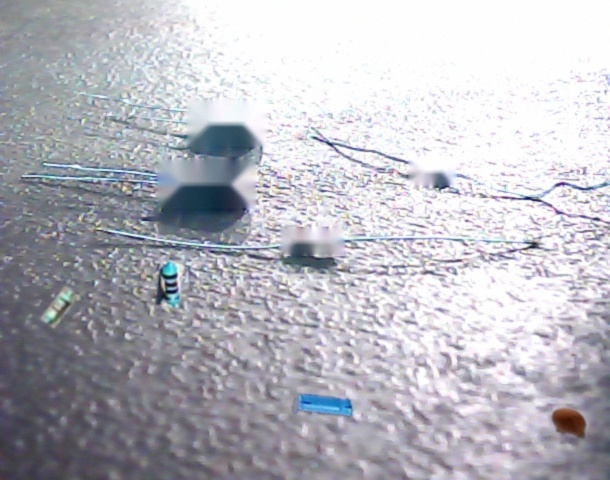capacitor: (293, 394, 353, 416), (551, 407, 587, 438)
resistor: (41, 286, 78, 328), (155, 261, 184, 308)
